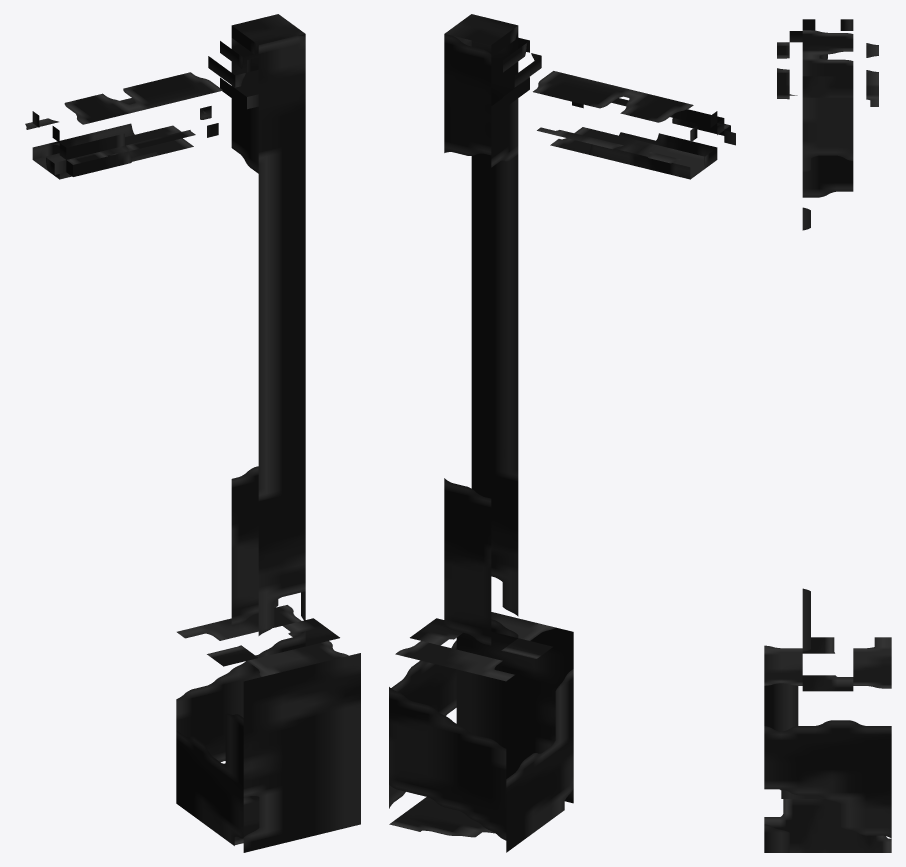
Rendered from Streetlamp1.obj.
3 renders of one model, left to right at view 1: azimuth 30°, elevation 25°; view 2: azimuth 150°, elevation 25°; view 3: azimuth 270°, elevation 25°, orthographic. The views are drawn at different scales.
Parts seen in each view (by area): view 1: Model; view 2: Model; view 3: Model.
Boxes of the visible parts, x1,y1,x2,y2 form: Model: [25, 14, 360, 852]; Model: [389, 14, 735, 852]; Model: [764, 19, 891, 852].
Size of the model in its own units: 12.5 by 32 by 5.
